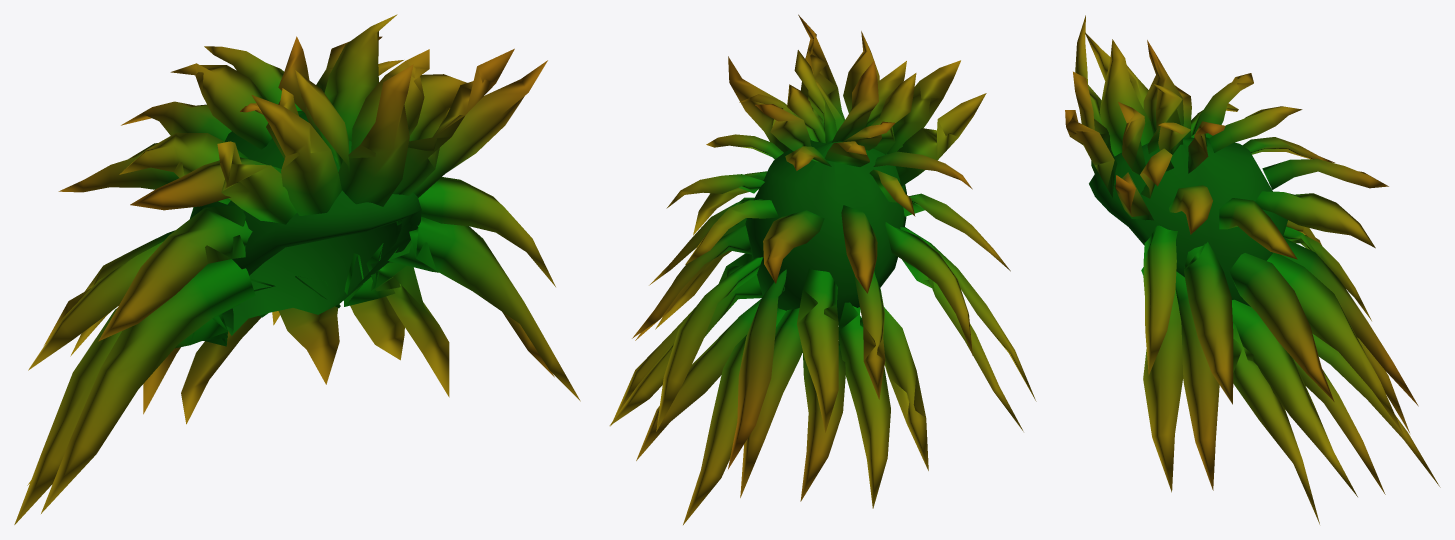
The model's file is wild.glb.
3 renders of one model, left to right at view 1: azimuth 30°, elevation 25°; view 2: azimuth 150°, elevation 25°; view 3: azimuth 270°, elevation 25°, orthographic. The views are drawn at different scales.
Visible parts, largest first — view 1: hair_wild; view 2: hair_wild; view 3: hair_wild.
Boxes of the visible parts, x1,y1,x2,y2 form: hair_wild: (14,14,580,524); hair_wild: (609,14,1036,524); hair_wild: (1065,15,1440,524).
Size of the model in its own units: 0.522 by 0.4979 by 0.4056.
